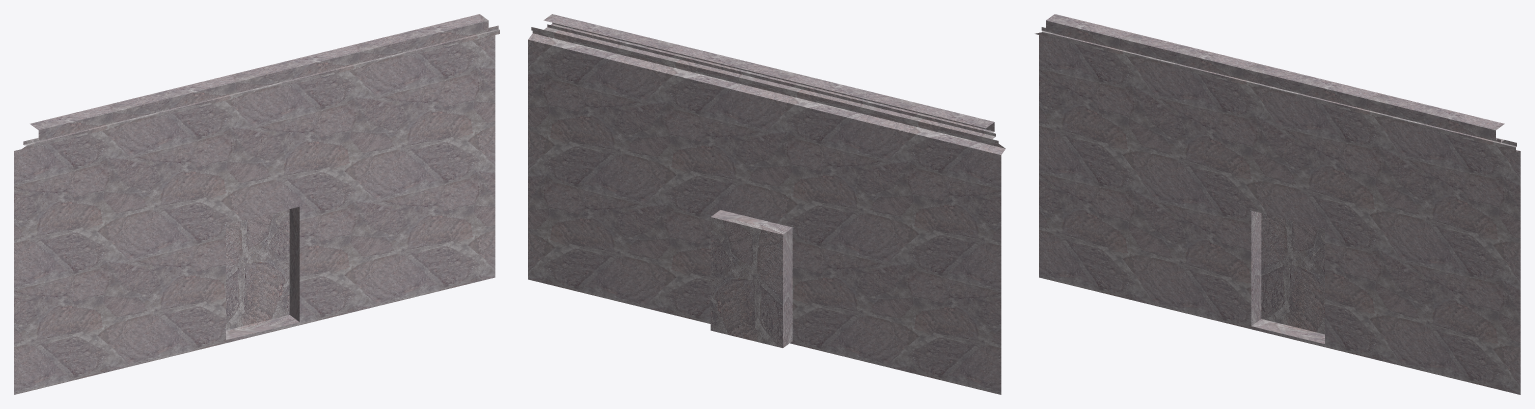
The model's file is mdl_apa_wall_back_side.gltf.
The picture shows the model from 3 angles, left to right: view 1: azimuth 30°, elevation 25°; view 2: azimuth 150°, elevation 25°; view 3: azimuth 330°, elevation 25°; orthographic projection.
Visible parts, largest first — view 1: mdl_apa_wall_side_lower; view 2: mdl_apa_wall_side_lower; view 3: mdl_apa_wall_side_lower.
Boxes of the visible parts, <box> form: mdl_apa_wall_side_lower: <box>14,14,499,394</box>; mdl_apa_wall_side_lower: <box>528,14,1005,394</box>; mdl_apa_wall_side_lower: <box>1035,14,1520,394</box>.
Bounding box in the file's own units: 11.95 × 6.34 × 0.8138.
1 material, 1 textured.
